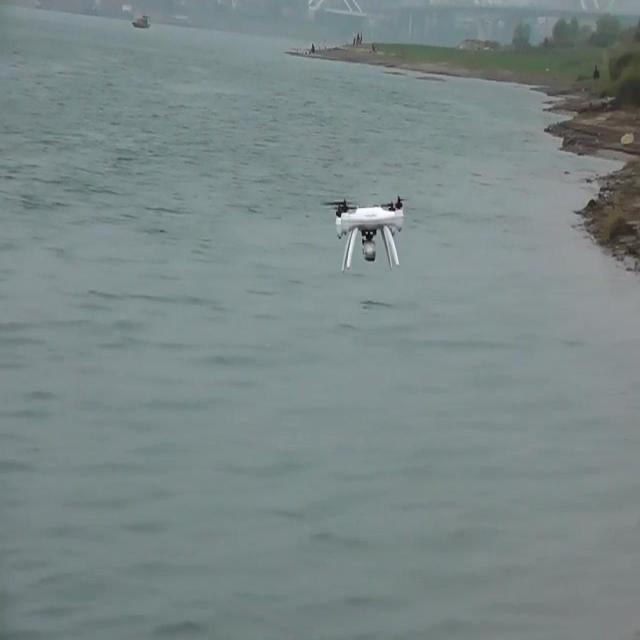drone: (324, 190, 411, 274)
